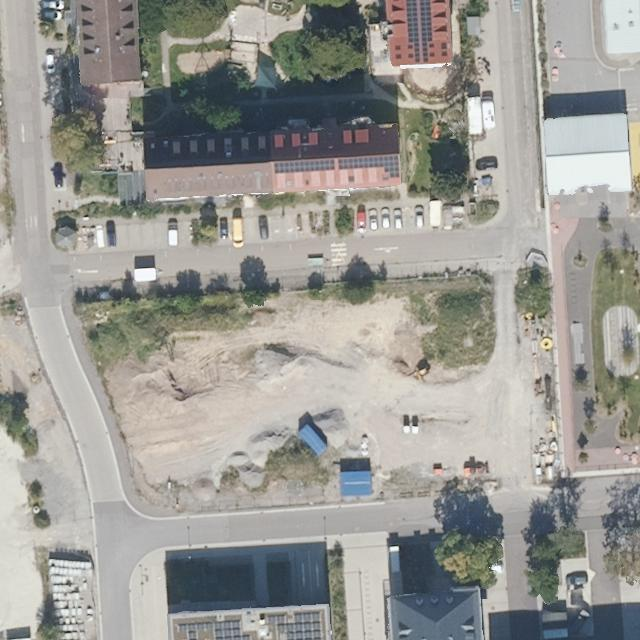PV: (405, 1, 434, 64), (337, 152, 402, 179), (267, 611, 323, 640), (175, 619, 252, 639), (272, 157, 336, 176)
